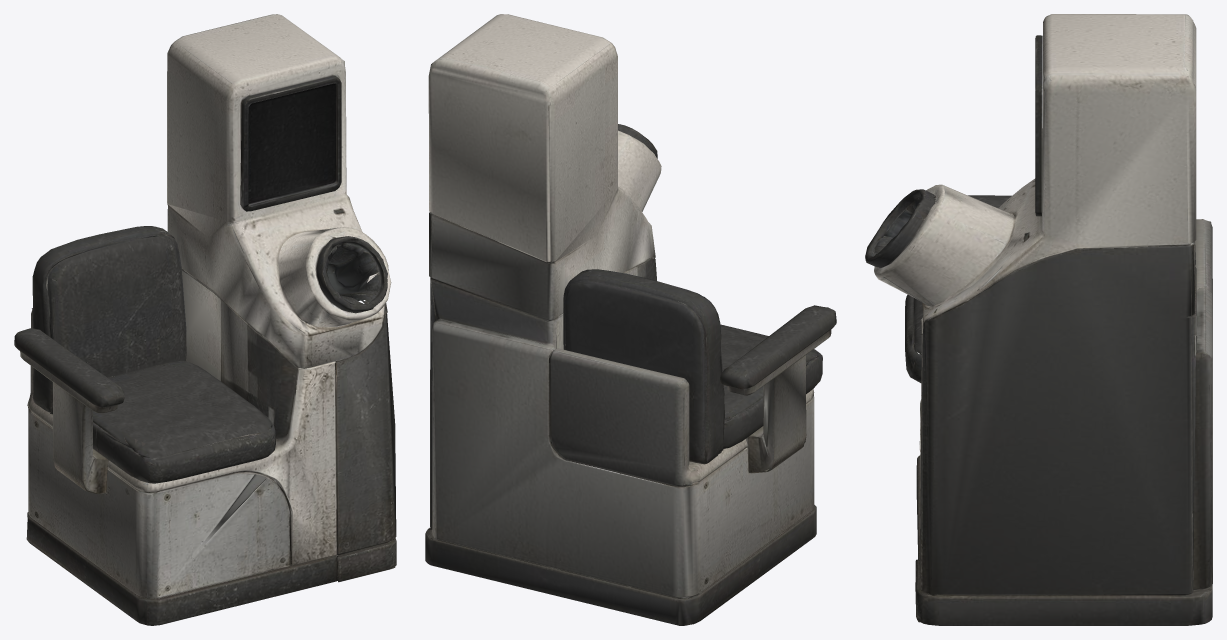
The model's file is p7-blood-pressure-kiosk-t25.glb.
3 renders of one model, left to right at view 1: azimuth 30°, elevation 25°; view 2: azimuth 150°, elevation 25°; view 3: azimuth 270°, elevation 25°, orthographic. The views are drawn at different scales.
Visible parts, largest first — view 1: p7-blood-pressure-kiosk-t25; view 2: p7-blood-pressure-kiosk-t25; view 3: p7-blood-pressure-kiosk-t25.
Part boxes in pixels (bbox=[...]): p7-blood-pressure-kiosk-t25: bbox=[14, 14, 396, 625]; p7-blood-pressure-kiosk-t25: bbox=[425, 14, 836, 625]; p7-blood-pressure-kiosk-t25: bbox=[865, 14, 1212, 625].
Bounding box in the file's own units: 0.9 × 1.4 × 0.8.
Materials: 1 (1 with a texture image).
